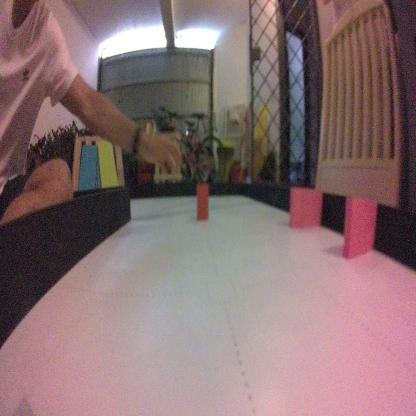magenta: (343, 195, 378, 267), (289, 184, 322, 232)
red: (196, 182, 210, 222)
